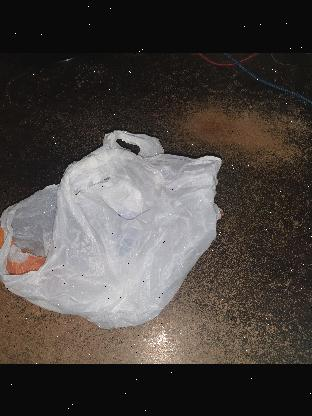Others: (0, 114, 232, 337)
